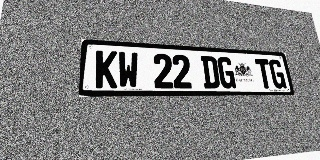2: (153, 53, 173, 88), (172, 54, 192, 88)
D: (201, 56, 220, 88)
G: (217, 57, 236, 88), (268, 59, 287, 89)
K: (95, 50, 117, 88)
T: (255, 59, 273, 89)
W: (118, 51, 139, 88)
